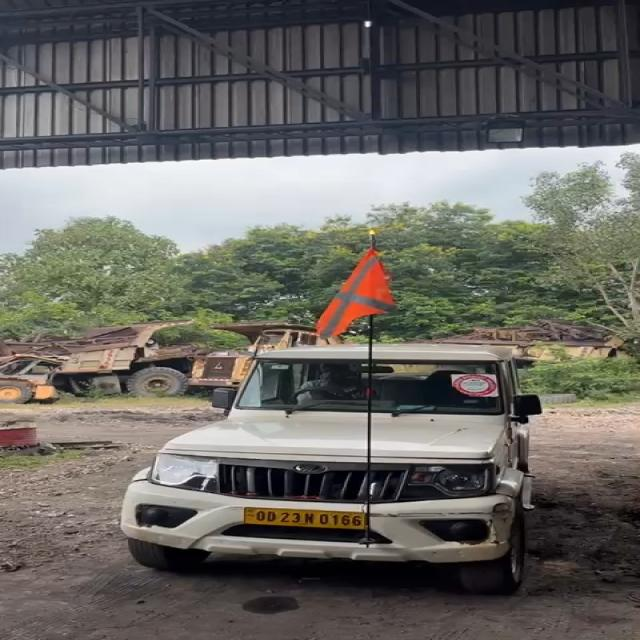light_vehicle: (117, 346, 531, 596)
